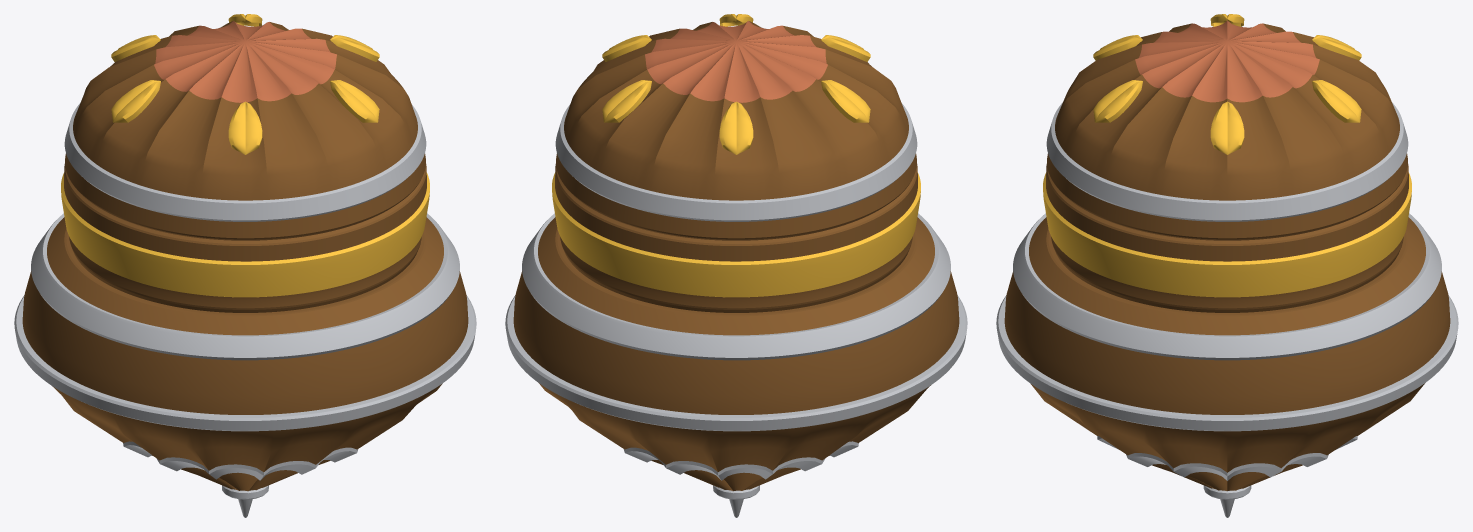
The model's file is gasing_perak.glb.
The picture shows the model from 3 angles, left to right: view 1: azimuth 30°, elevation 25°; view 2: azimuth 150°, elevation 25°; view 3: azimuth 270°, elevation 25°; orthographic projection.
Visible parts, largest first — view 1: Gasing_perak; view 2: Gasing_perak; view 3: Gasing_perak.
Boxes of the visible parts, <box> form: Gasing_perak: <box>14,14,476,517</box>; Gasing_perak: <box>505,14,967,517</box>; Gasing_perak: <box>996,14,1458,517</box>.
Size of the model in its own units: 0.88 by 1 by 0.88.
